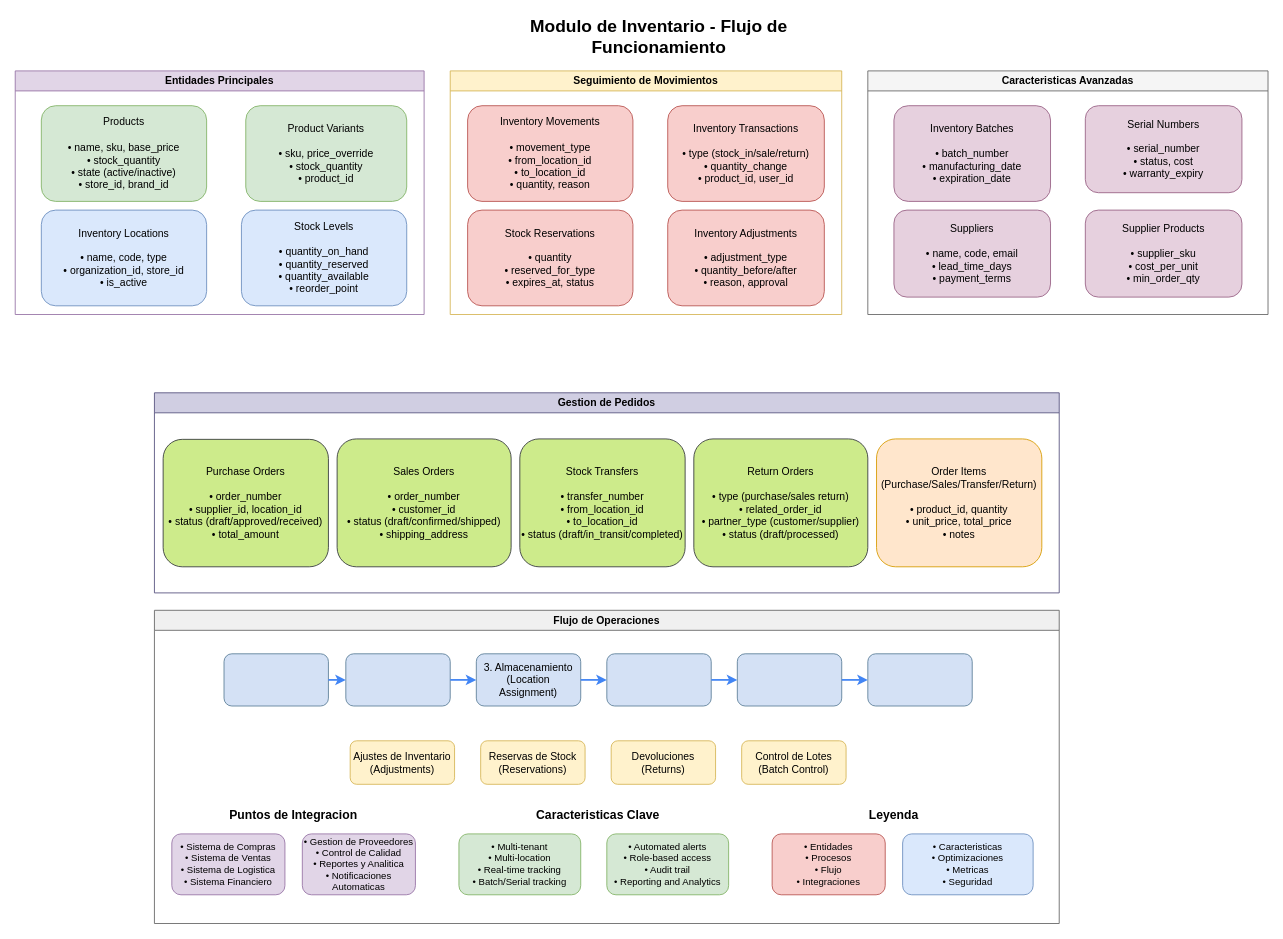
Some shapes in this 1283 by 939 pixel diagram are drawn without their labels. The centre of each missing label's shape, as x and y in pixels:
"1. Recepcion de Mercancia (Purchase Order)" goes at (x=275, y=679).
"2. Registro en Inventario (Stock In)" goes at (x=397, y=679).
"4. Gestion de Stock (Stock Levels)" goes at (x=658, y=679).
"5. Venta/Transferencia (Sales/Transfer)" goes at (x=789, y=679).
"6. Despacho (Stock Out)" goes at (x=919, y=679).
